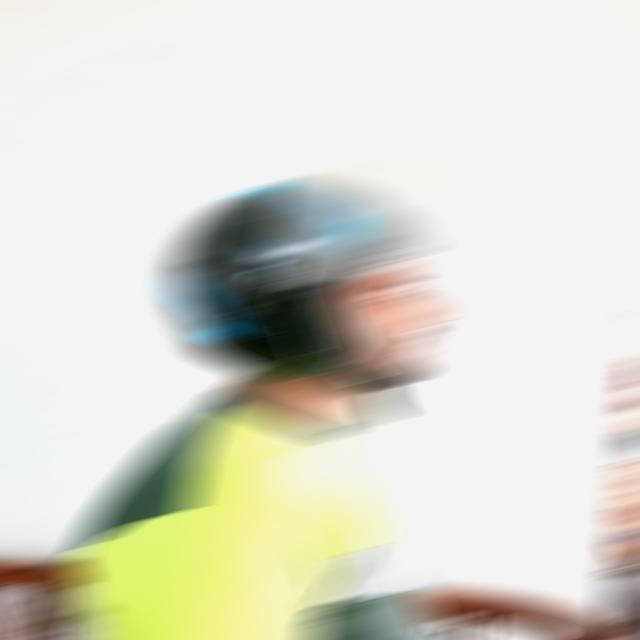With Helmet: (166, 176, 441, 379)
